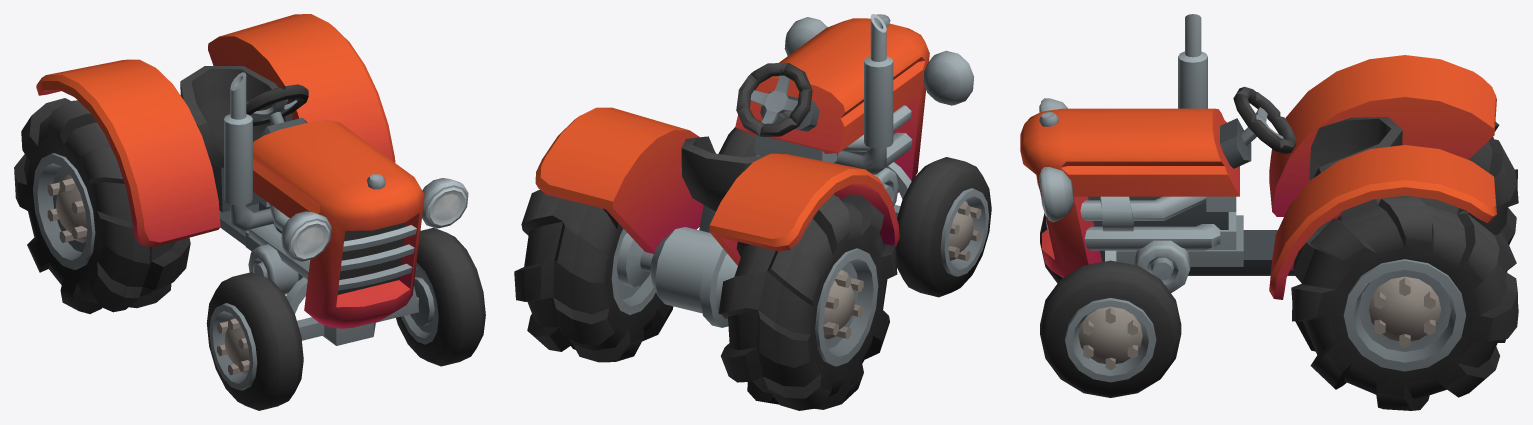
Rendered from tractor.gltf.
The picture shows the model from 3 angles, left to right: view 1: azimuth 30°, elevation 25°; view 2: azimuth 150°, elevation 25°; view 3: azimuth 270°, elevation 25°; orthographic projection. The views are drawn at different scales.
Parts seen in each view (by area): view 1: tractor, tractor_wheel_rear_right, tractor_wheel_front_right, tractor_wheel_front_left, tractor_steeringwheel; view 2: tractor, tractor_wheel_rear_right, tractor_wheel_rear_left, tractor_wheel_front_right, tractor_steeringwheel, tractor_wheel_front_left; view 3: tractor, tractor_wheel_rear_left, tractor_wheel_front_left, tractor_wheel_rear_right, tractor_steeringwheel.
Boxes of the visible parts, x1,y1,x2,y2 form: tractor: (36,14,468,345); tractor_wheel_rear_right: (14,98,190,313); tractor_wheel_front_right: (206,272,303,410); tractor_wheel_front_left: (396,227,485,366); tractor_steeringwheel: (246,84,308,126); tractor: (535,14,973,327); tractor_wheel_rear_right: (718,194,897,410); tractor_wheel_rear_left: (514,189,673,362); tractor_wheel_front_right: (895,157,991,297); tractor_steeringwheel: (736,62,812,136); tractor_wheel_front_left: (718,127,755,157); tractor: (1020,14,1496,299); tractor_wheel_rear_left: (1291,195,1518,410); tractor_wheel_front_left: (1040,260,1181,397); tractor_wheel_rear_right: (1468,121,1518,244); tractor_steeringwheel: (1233,86,1296,154).
Bounding box in the file's own units: 2.85 × 2.81 × 4.17.
Materials: 1 (1 with a texture image).
